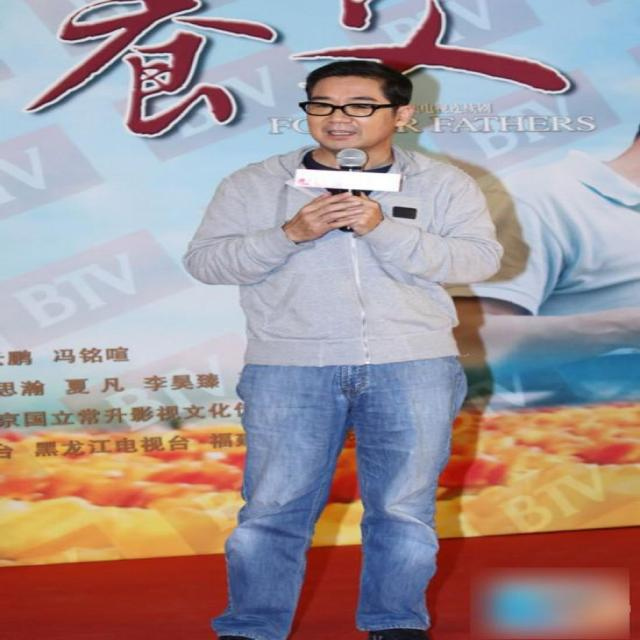Manusia: (153, 51, 497, 640)
